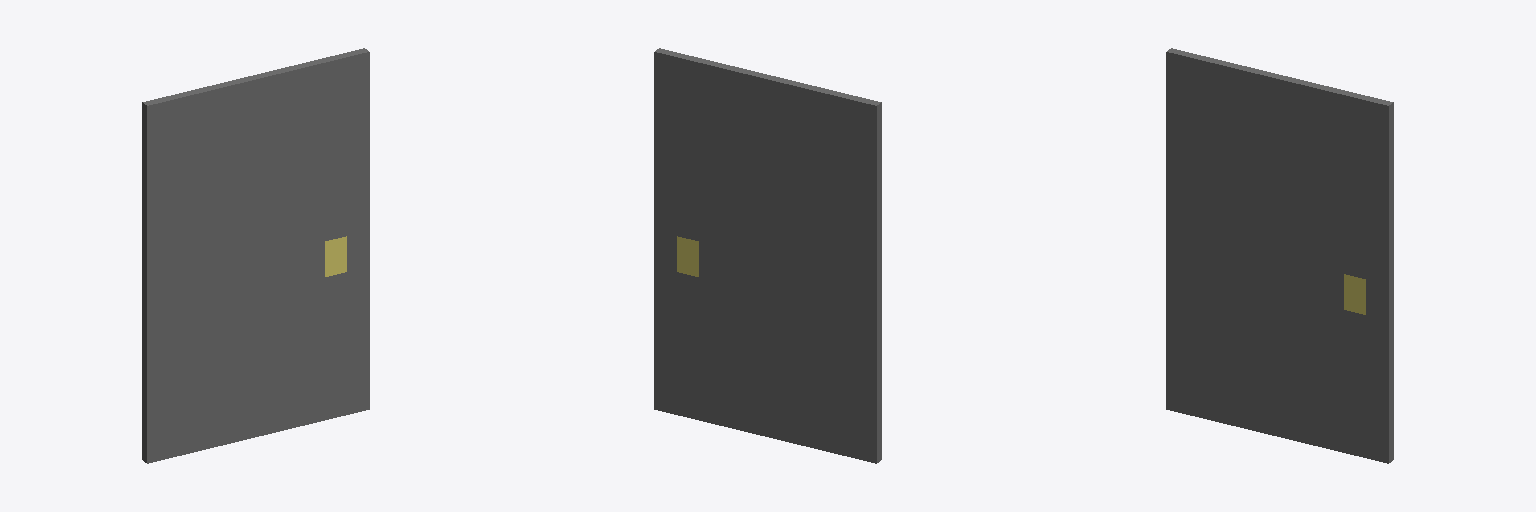
The picture shows the model from 3 angles: view 1: azimuth 30°, elevation 25°; view 2: azimuth 150°, elevation 25°; view 3: azimuth 330°, elevation 25°; orthographic projection.
Parts seen in each view (by area): view 1: pCube1; view 2: pCube1; view 3: pCube1.
Boxes of the visible parts, x1=… form: pCube1: x1=142, y1=48, x2=369, y2=463; pCube1: x1=654, y1=48, x2=881, y2=463; pCube1: x1=1166, y1=48, x2=1393, y2=463.
Bounding box in the file's own units: 1.3 × 2 × 0.05.
Materials: 2 (2 with a texture image).